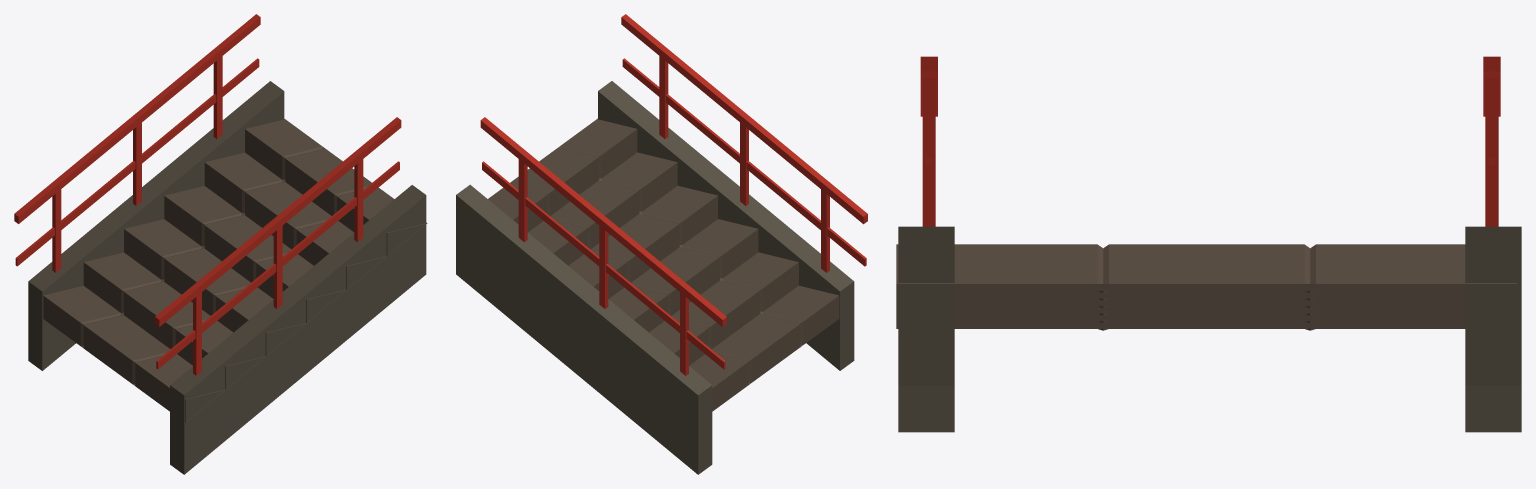
Rendered from StraightLadder.fbx.
The picture shows the model from 3 angles, left to right: view 1: azimuth 30°, elevation 25°; view 2: azimuth 150°, elevation 25°; view 3: azimuth 270°, elevation 25°; orthographic projection. The views are drawn at different scales.
Parts seen in each view (by area): view 1: Plane, StairsBorder.004, StairsBorder.005, StairRail, StairRail.001; view 2: Plane, StairsBorder.005, StairsBorder.004, StairRail, StairRail.001; view 3: Plane, StairsBorder.005, StairsBorder.004, StairRail, StairRail.001.
Part boxes in pixels (left/top/right/bottom): Plane: left=43, top=119, right=427, bottom=422; StairsBorder.004: left=170, top=185, right=426, bottom=474; StairsBorder.005: left=28, top=81, right=284, bottom=370; StairRail: left=14, top=14, right=260, bottom=272; StairRail.001: left=155, top=117, right=401, bottom=375; Plane: left=488, top=118, right=839, bottom=411; StairsBorder.005: left=456, top=184, right=712, bottom=474; StairsBorder.004: left=598, top=81, right=854, bottom=370; StairRail: left=480, top=117, right=726, bottom=375; StairRail.001: left=621, top=14, right=867, bottom=272; Plane: left=896, top=244, right=1517, bottom=330; StairsBorder.005: left=1465, top=226, right=1521, bottom=432; StairsBorder.004: left=898, top=226, right=954, bottom=432; StairRail: left=1483, top=56, right=1500, bottom=226; StairRail.001: left=920, top=56, right=937, bottom=226.
Bounding box in the file's own units: 195 × 211 × 201.
